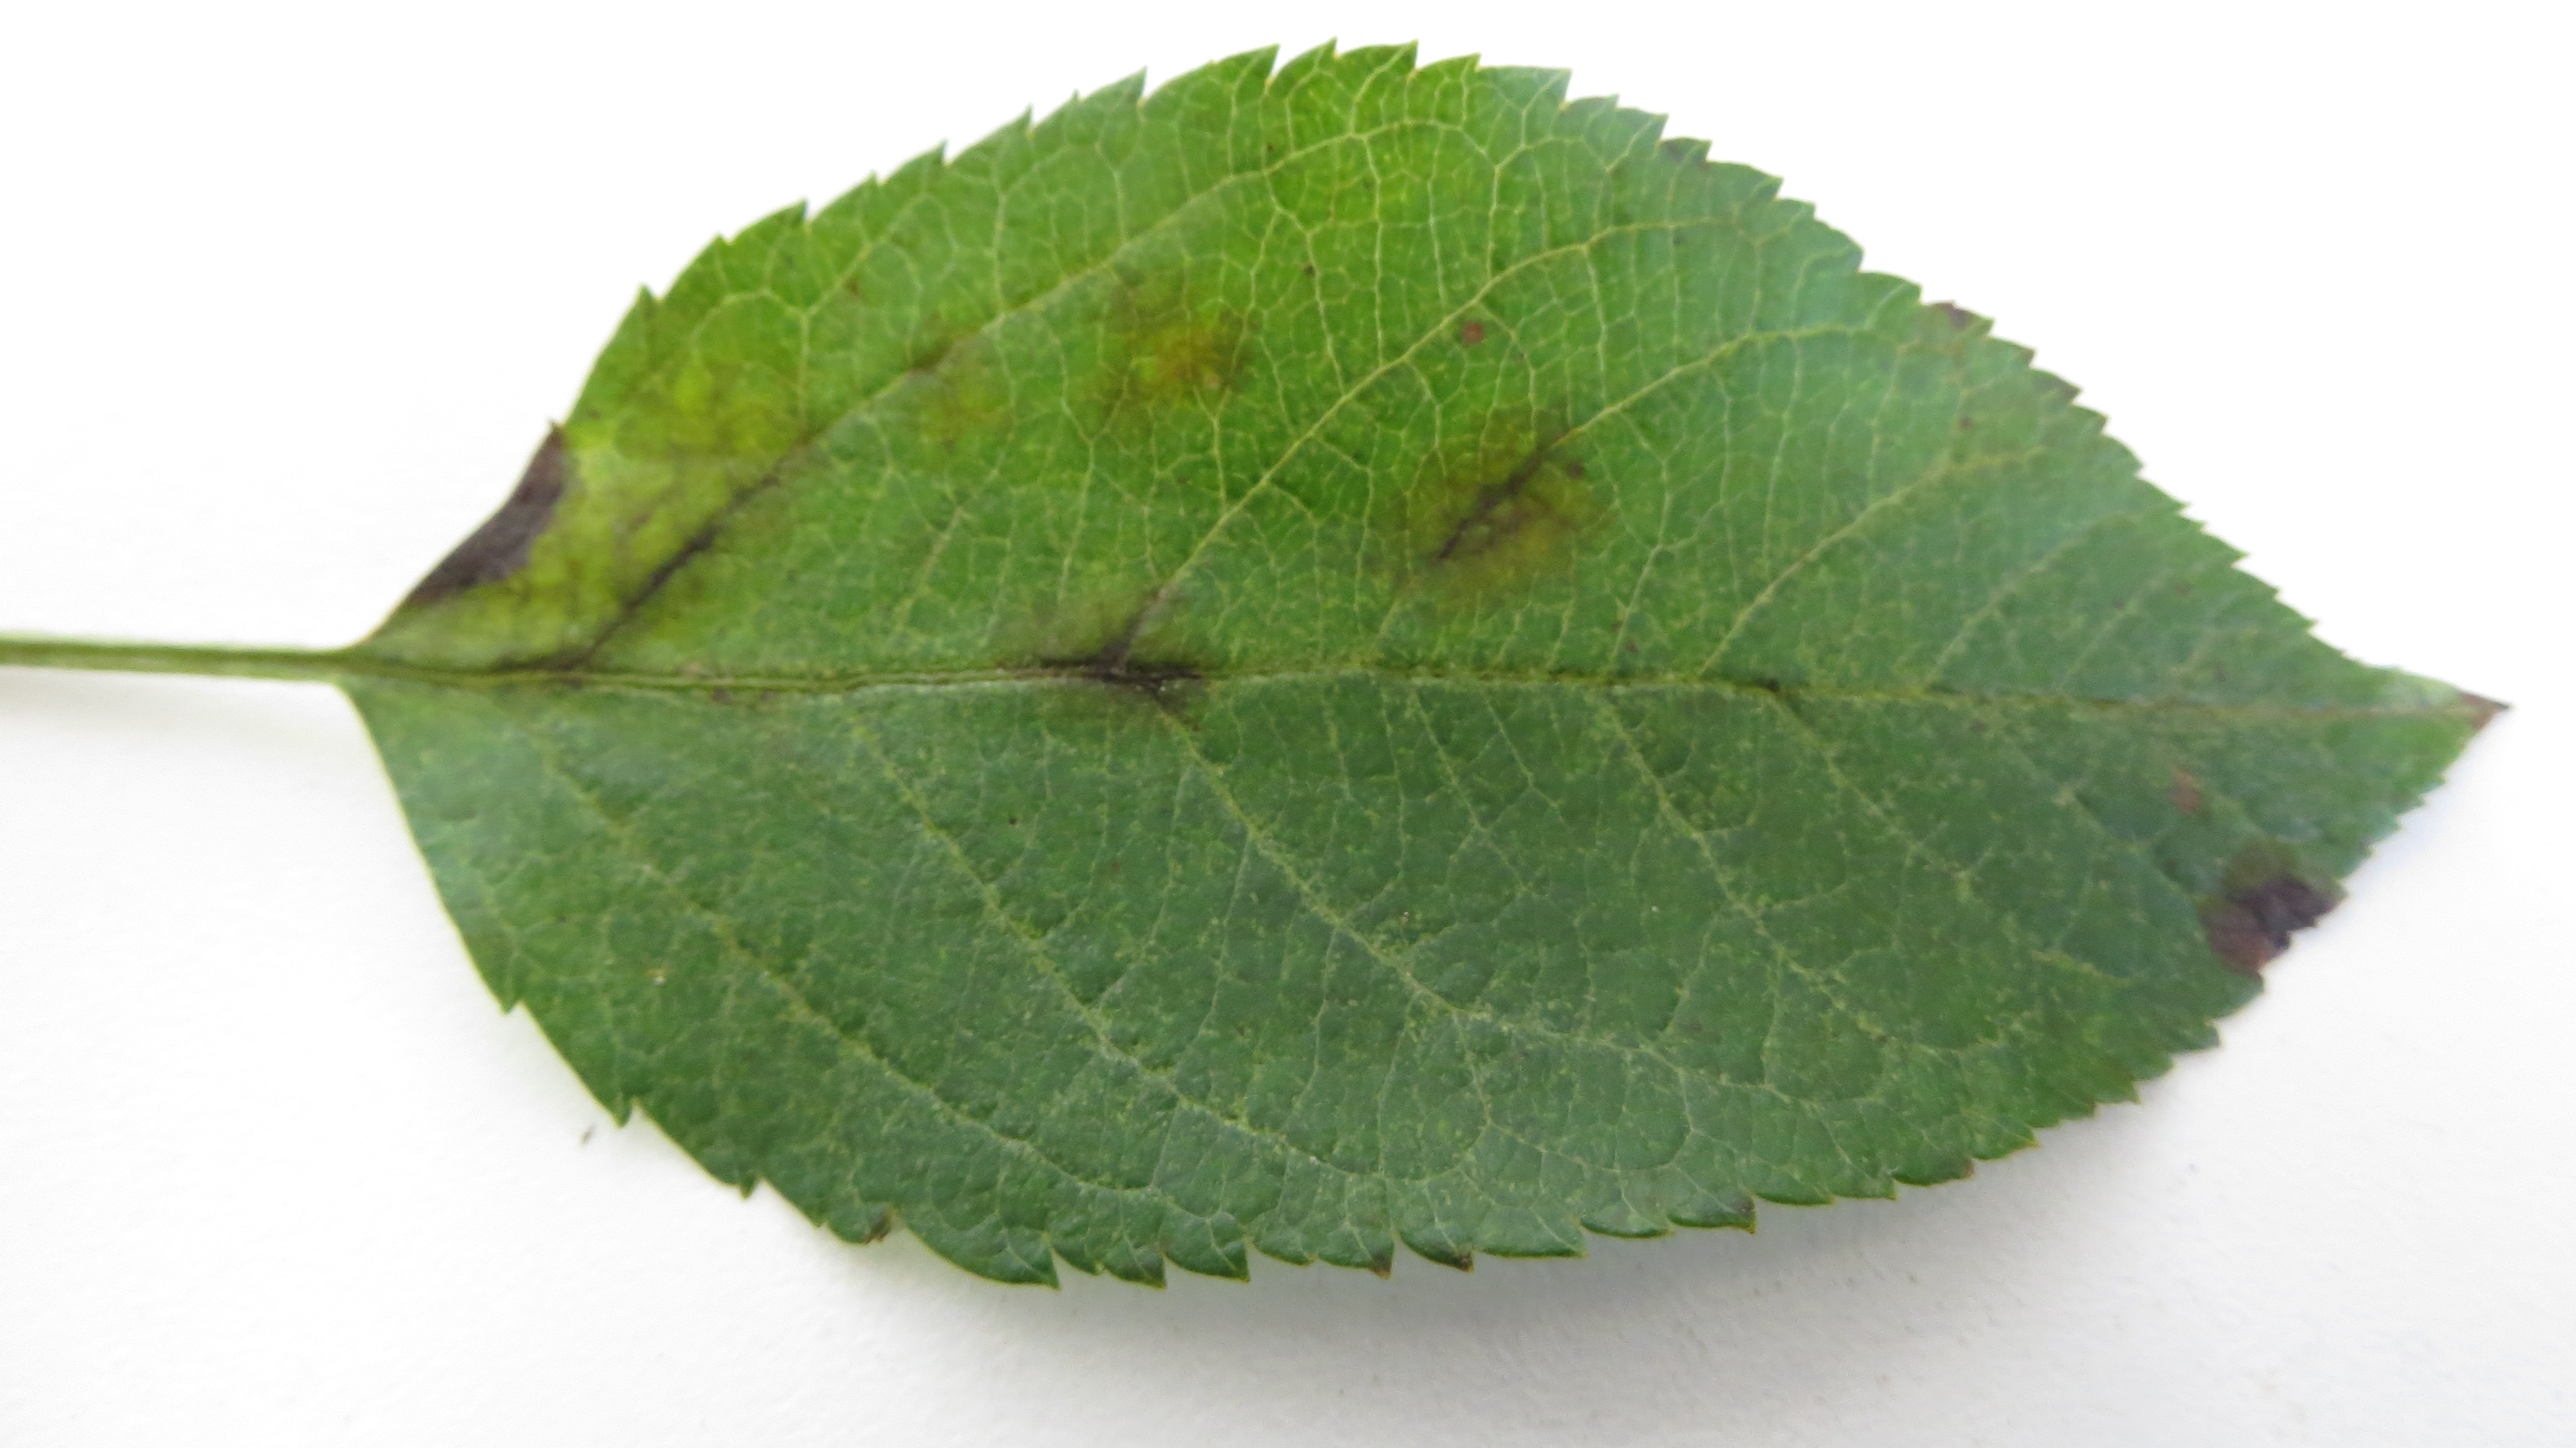sarna: (1384, 397, 1605, 598), (1081, 274, 1265, 432), (1019, 588, 1221, 728), (2183, 821, 2337, 979), (598, 517, 750, 644), (600, 374, 732, 515), (412, 499, 552, 627), (510, 407, 617, 558), (908, 324, 1021, 455), (727, 404, 814, 528), (483, 632, 603, 712), (2148, 749, 2213, 821), (1437, 297, 1484, 366)
